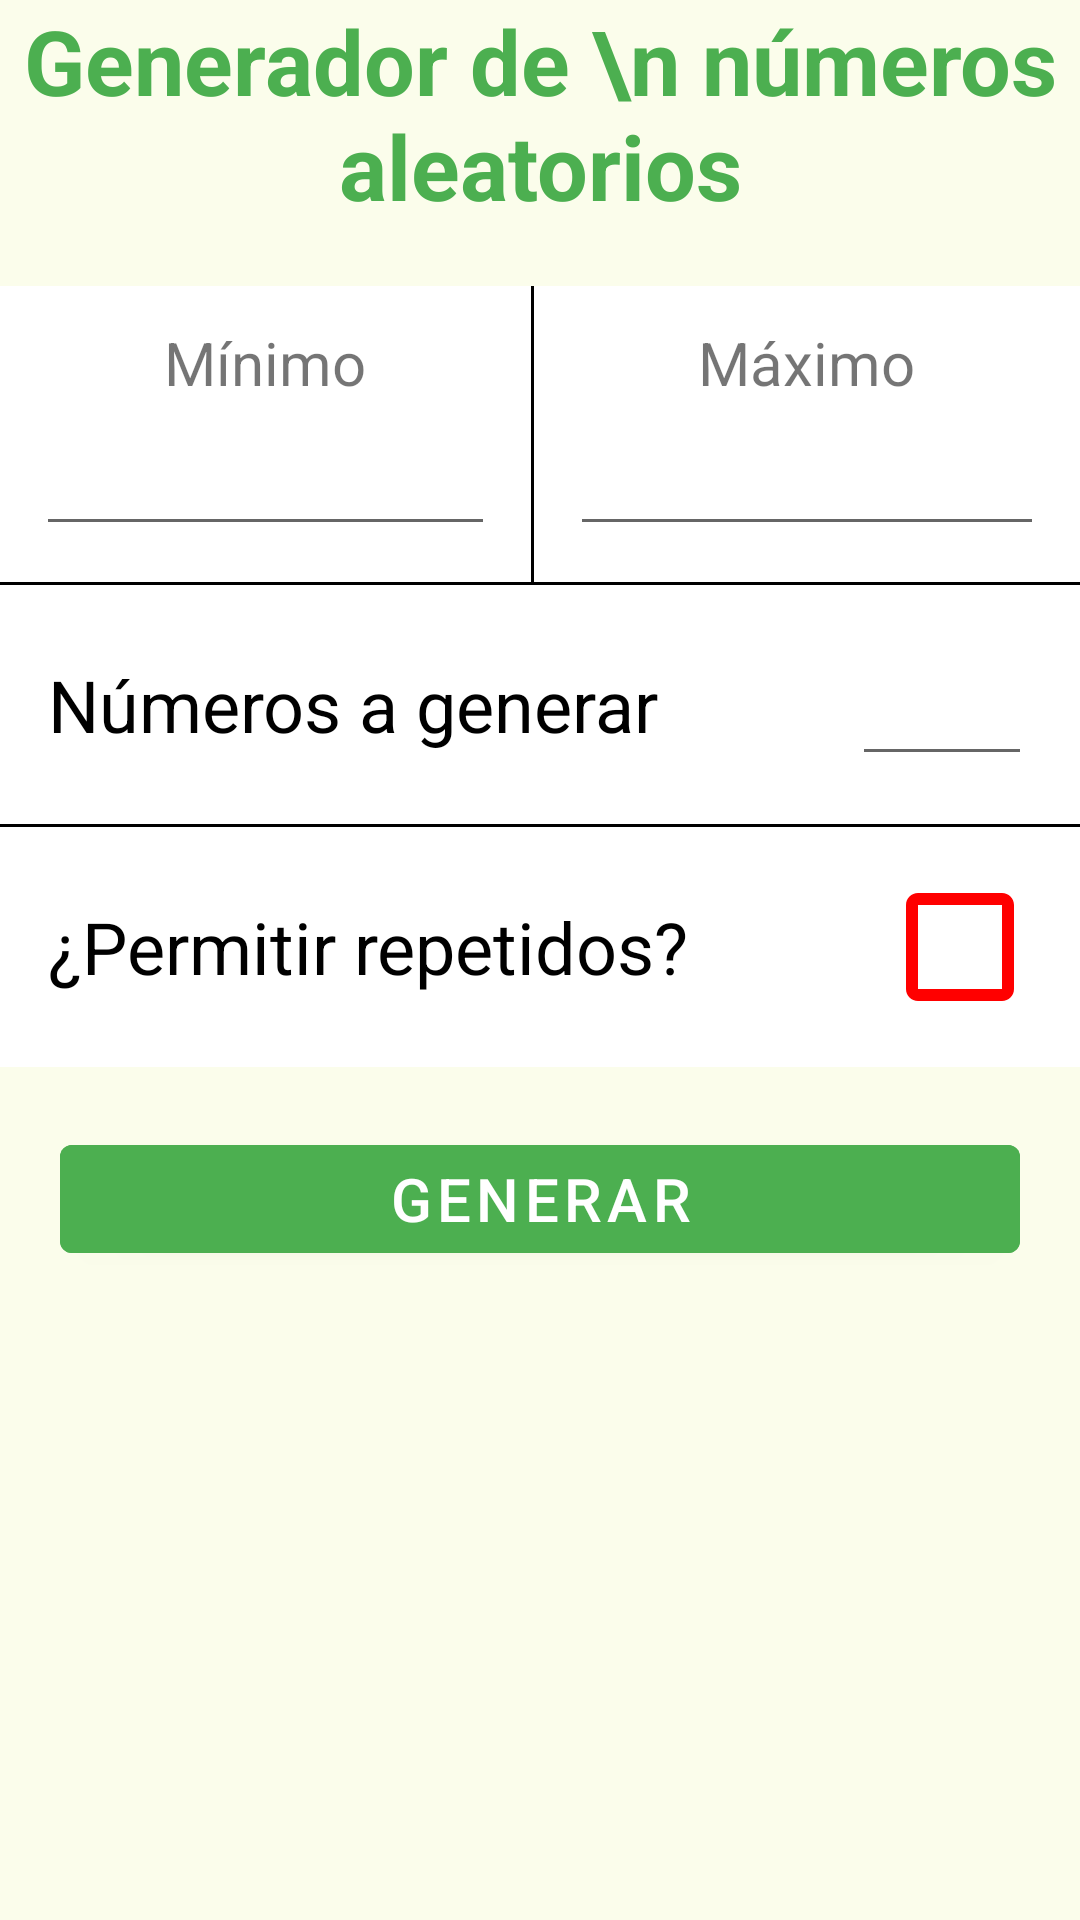

Named icons in this screenshot (1080px×1920px) and their centers, [x,y]:
checkbox: [960,947]
